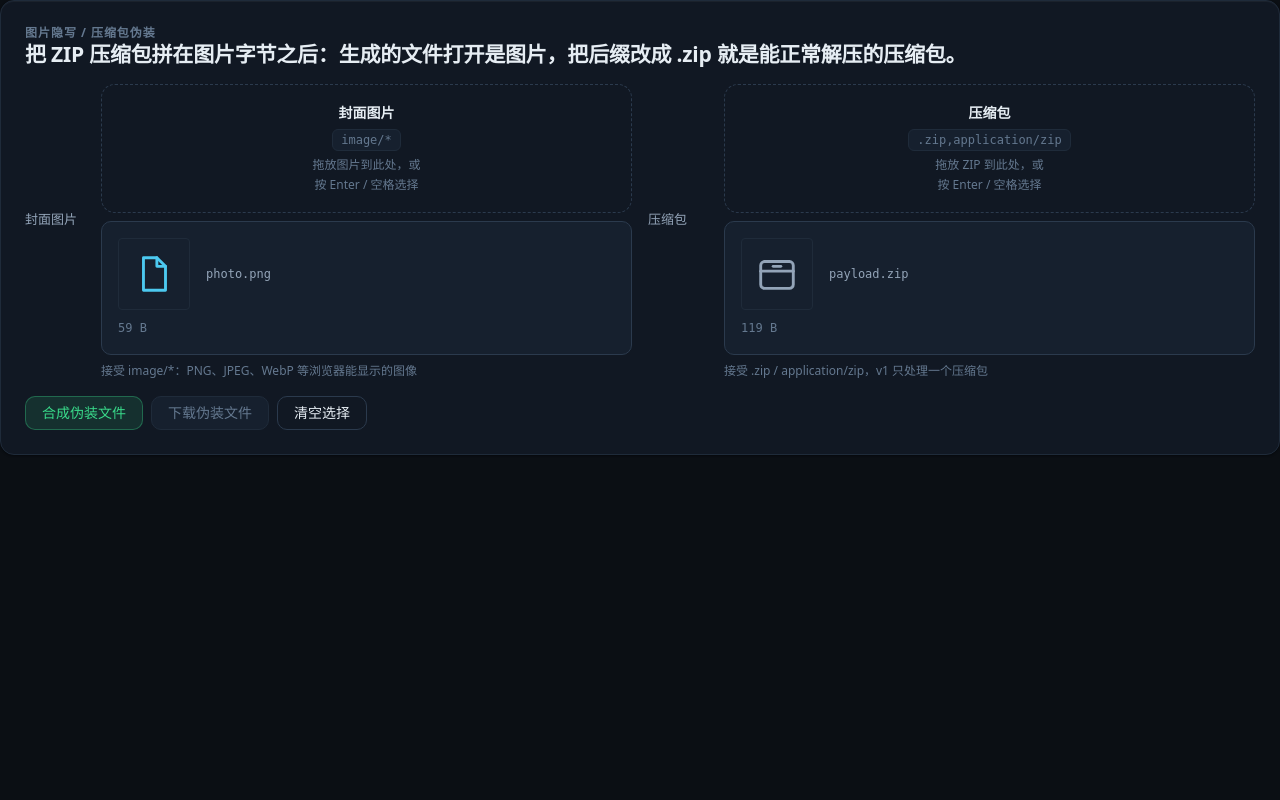
Scenario: MergePanel › renders a warn StatusPill when the image cannot be decoded
Click the button with id "merge-run" at (84, 413), box [25,396,143,430]
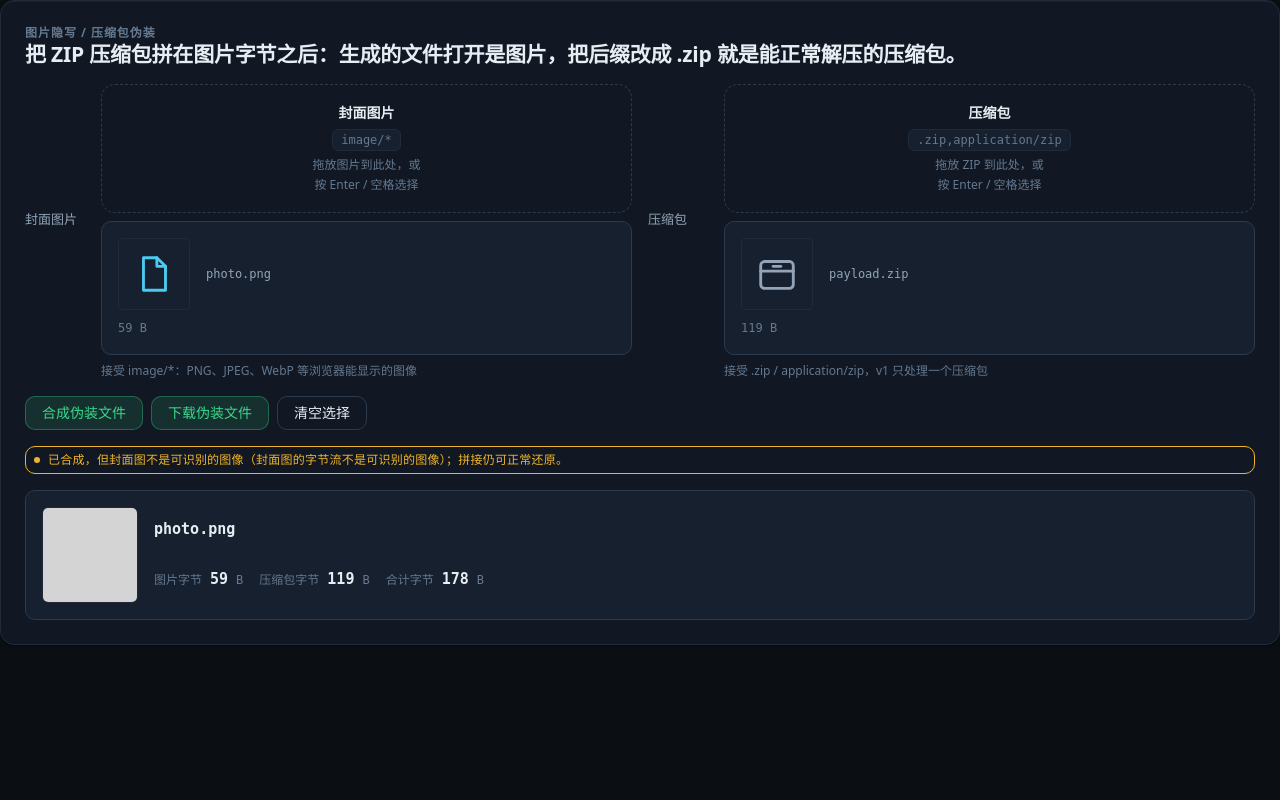
Now the text "已合成，但封面图不是可识别的图像（封面图的字节流不是可识别的图像）；拼接仍可正常还原。" is shown, box [25,446,1255,474]
Now the element with test id "merge-result" is shown, box [25,490,1255,620]
Now the text with test id "merge-output-name" reads "photo.png", box [154,520,235,538]
